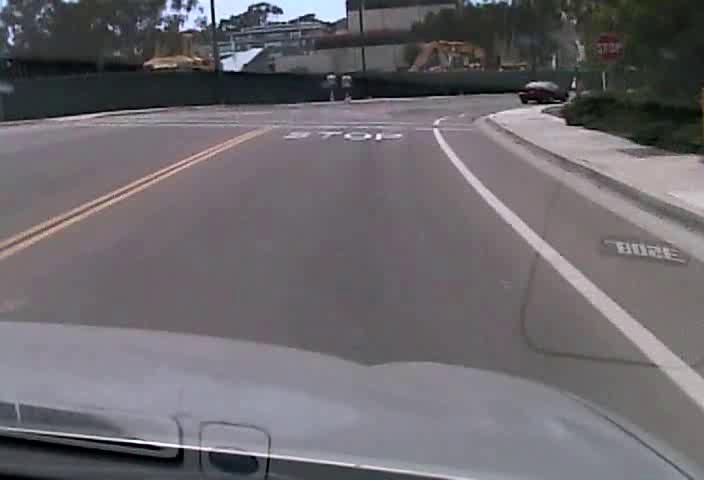stop: (591, 32, 624, 63)
